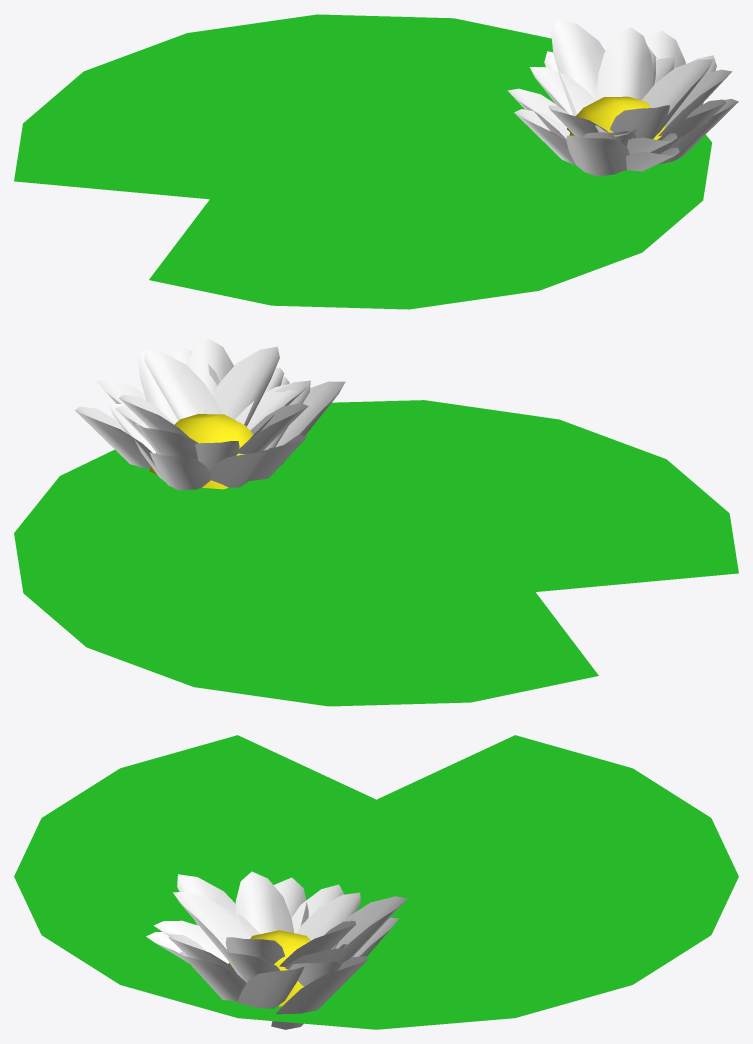
The model's file is Lillypad Flower.fbx.
The picture shows the model from 3 angles, top to bottom: view 1: azimuth 30°, elevation 25°; view 2: azimuth 150°, elevation 25°; view 3: azimuth 270°, elevation 25°; orthographic projection. The views are drawn at different scales.
Parts seen in each view (by area): view 1: Lillipad Flower; view 2: Lillipad Flower; view 3: Lillipad Flower.
Part boxes in pixels (x1,y1,x2,y2): Lillipad Flower: (14,14,738,309); Lillipad Flower: (14,338,738,706); Lillipad Flower: (14,735,738,1029).
Bounding box in the file's own units: 8.93 × 1.62 × 9.2.
